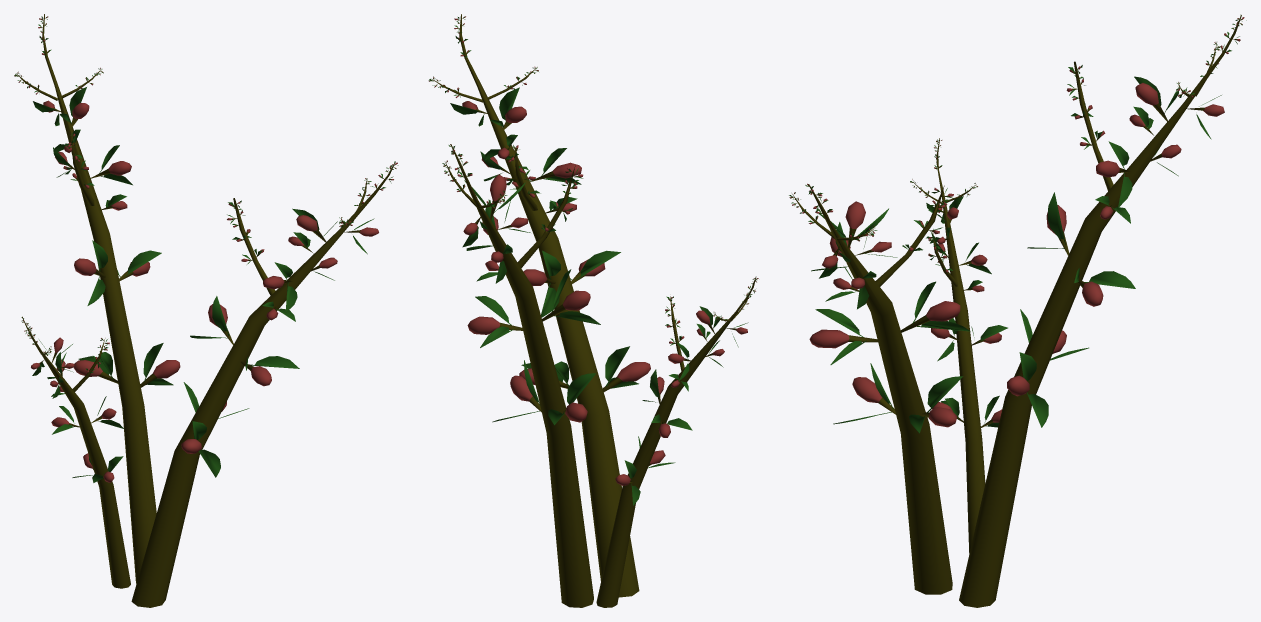
The model's file is SM_Catuaba_001.fbx.
3 views of the same model, side by side, from view 1: azimuth 30°, elevation 25°; view 2: azimuth 150°, elevation 25°; view 3: azimuth 270°, elevation 25° (orthographic). The views are drawn at different scales.
Visible parts, largest first — view 1: Catuaba; view 2: Catuaba; view 3: Catuaba.
Boxes of the visible parts, <box> form: Catuaba: <box>14,14,398,607</box>; Catuaba: <box>428,14,758,607</box>; Catuaba: <box>789,14,1246,607</box>.
Bounding box in the file's own units: 38.95 × 55.9 × 39.49.
